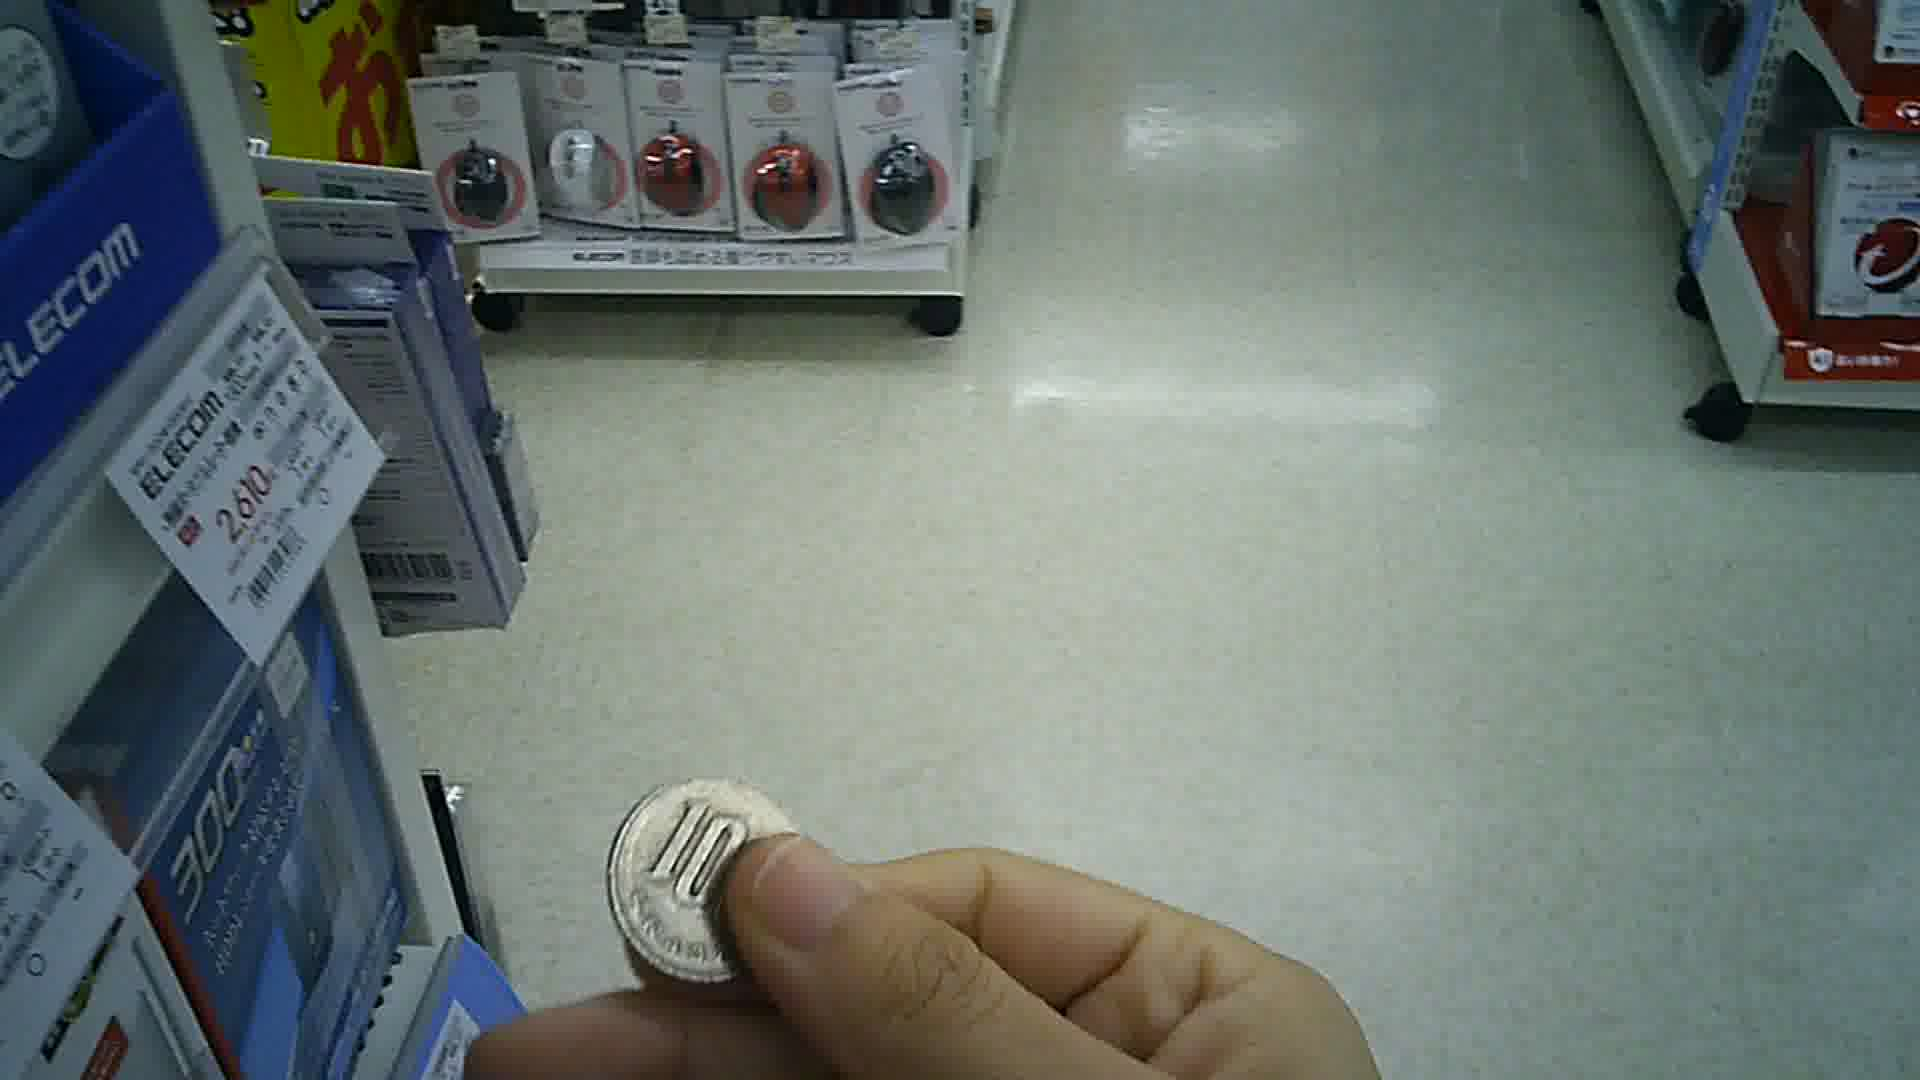100 Yen: (601, 774, 812, 982)
